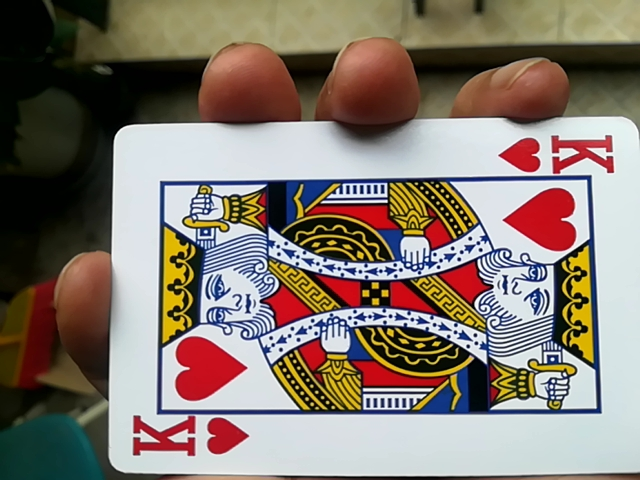hx k: (105, 123, 635, 478)
